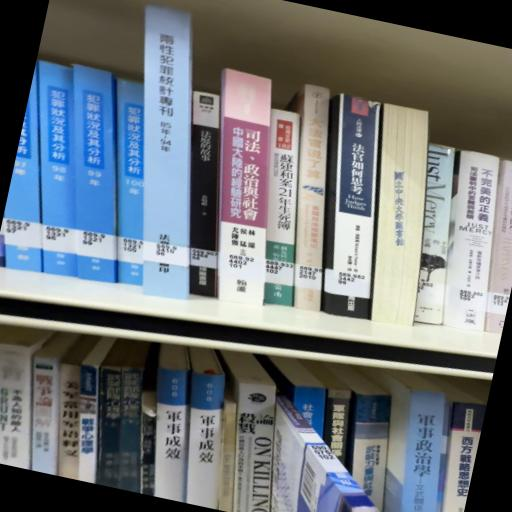backward: (370, 103, 427, 325)
book: (85, 4, 245, 306), (172, 70, 308, 314), (289, 96, 413, 326), (250, 86, 366, 318), (338, 106, 451, 334), (231, 106, 328, 316), (427, 146, 512, 331)
